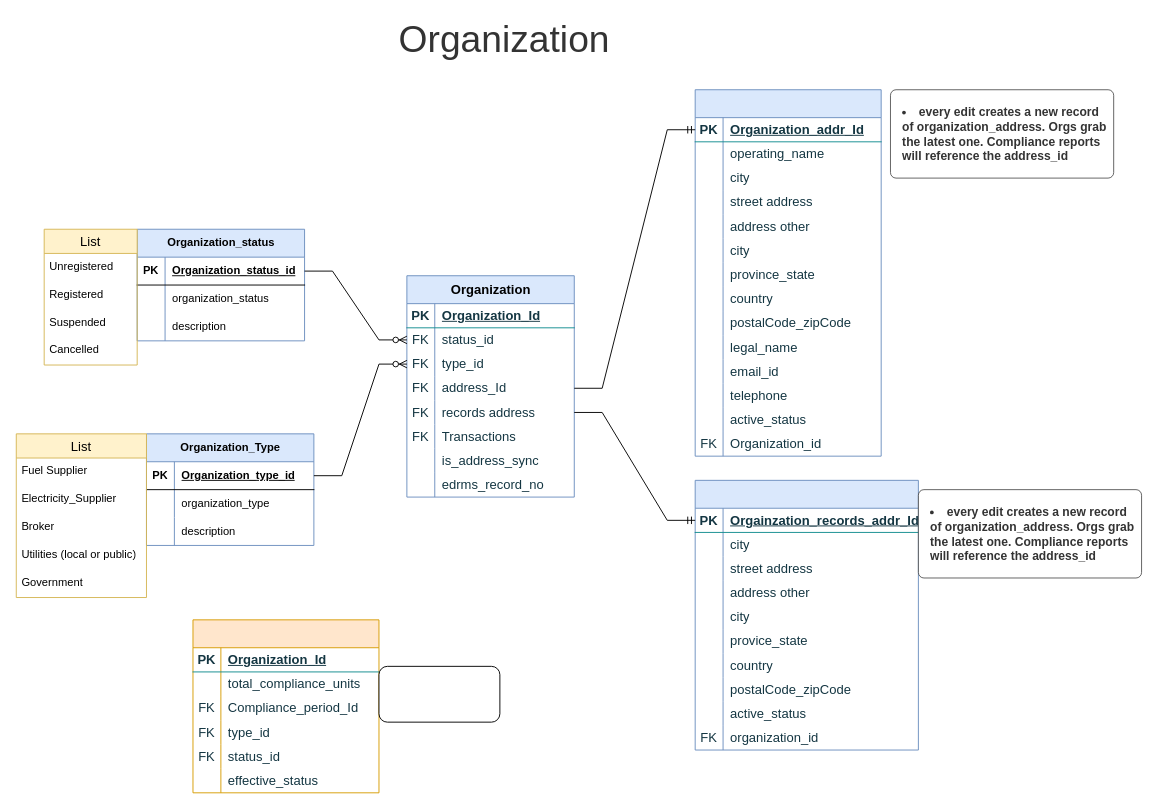
The diagram is 1158 pixels wide and 809 high, and some of its shapes have lost their labels. The shapes that lost their labels are listed below. From the top down, each one's box as (x1, y1, x2, y2) in pixels, then its label:
(694, 89, 881, 456): Organization Address
(694, 479, 918, 750): Organization Records Address
(192, 619, 379, 793): Organization_Balance_View
(378, 665, 500, 722): total_compliance_units is derived from the transacion table.
